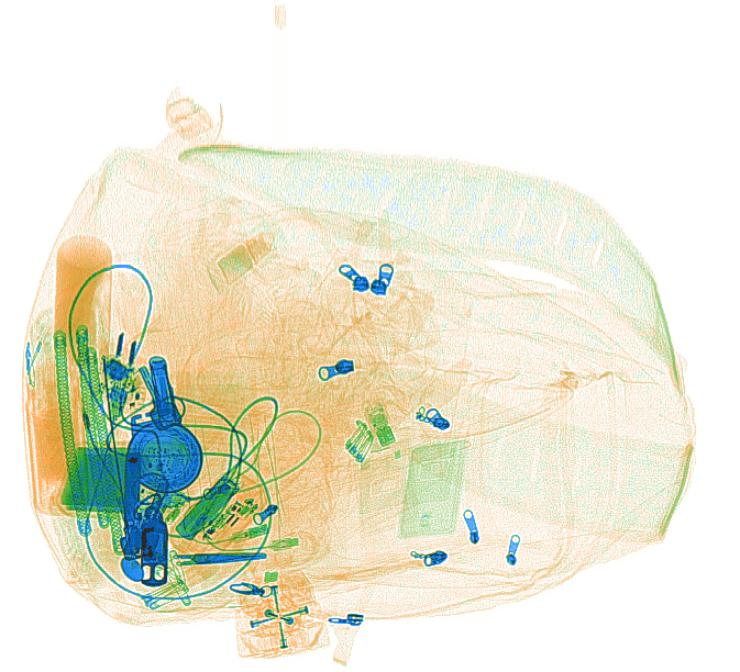USBFlashDisk: (361, 397, 396, 453)
battery: (169, 473, 242, 545)
plasticBottleWithaNozzle: (46, 228, 121, 442)
scissors: (113, 537, 270, 587)
